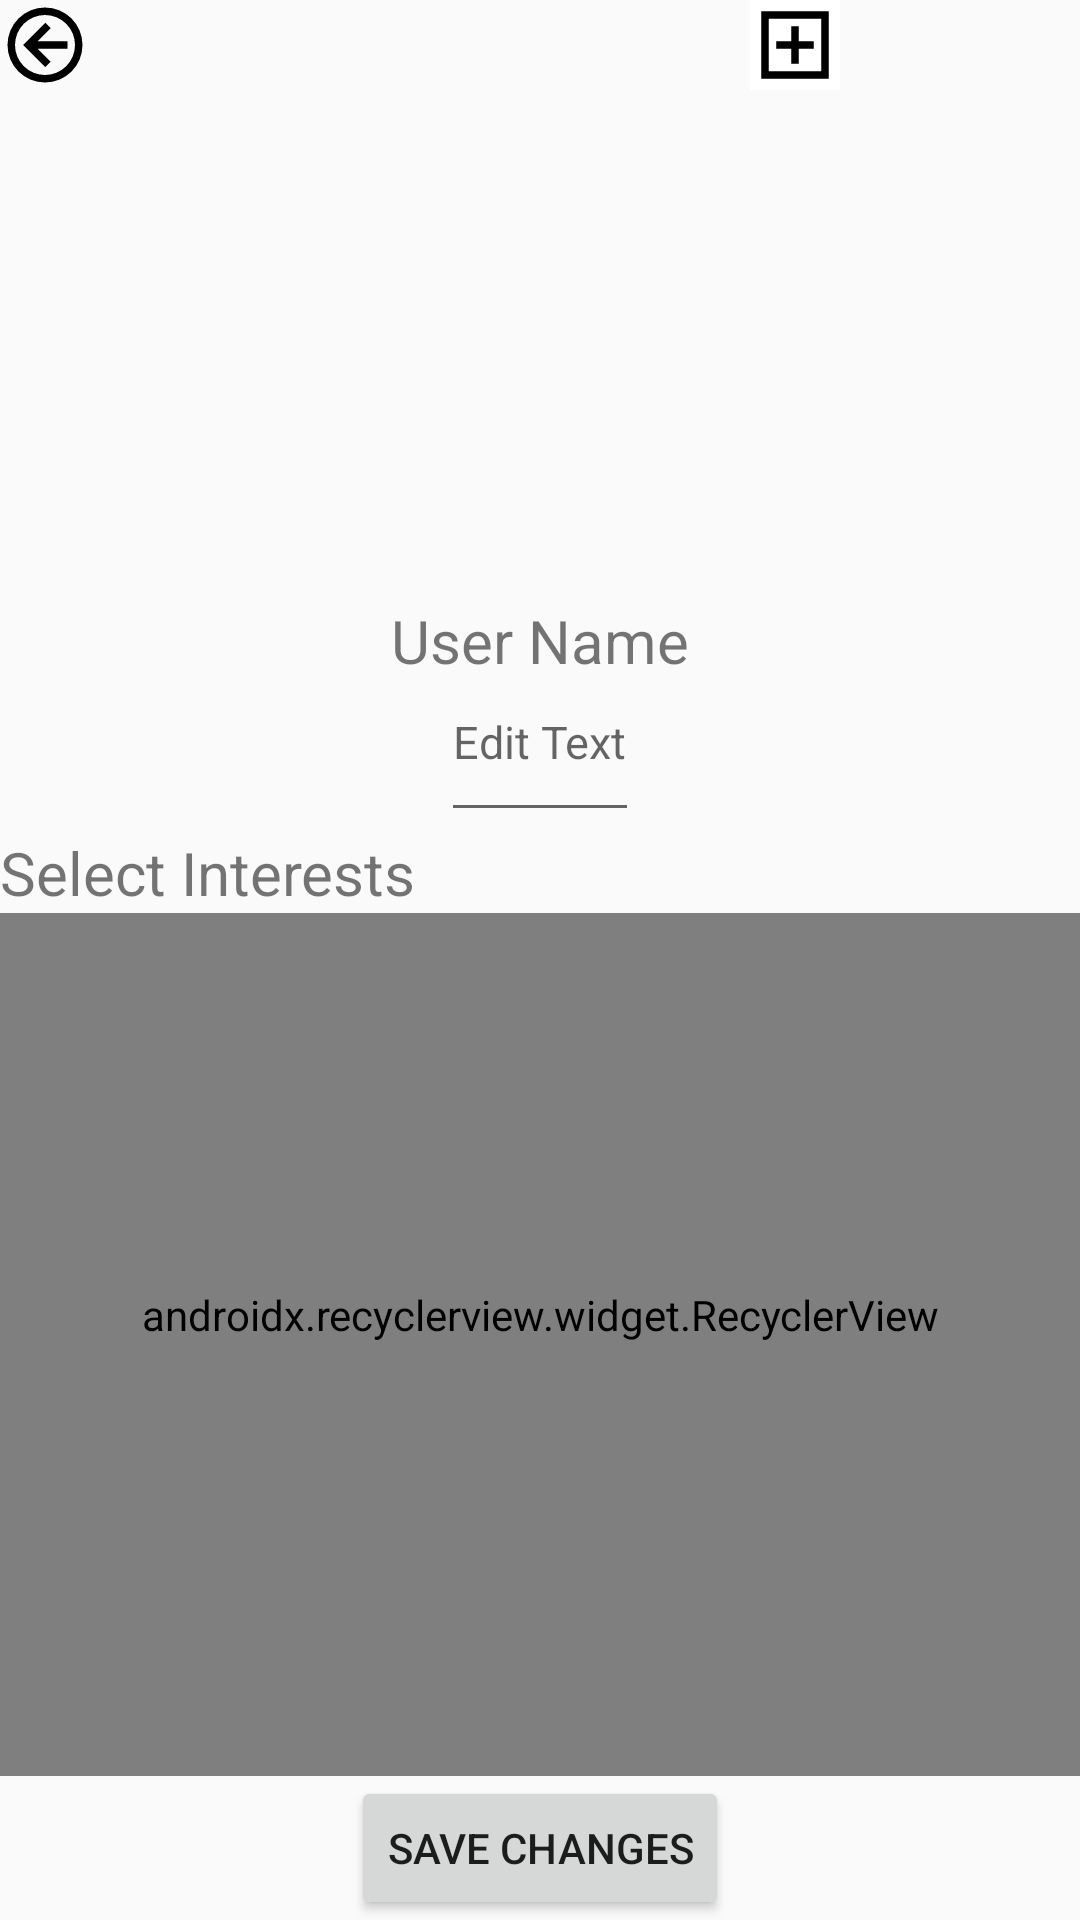

Locate icon controls on the screen. Image size 1080 x 1920, boxes as box=[x1, y1, x2, y2].
add box: box=[761, 11, 829, 79]
arrow left circle: box=[7, 7, 83, 83]
